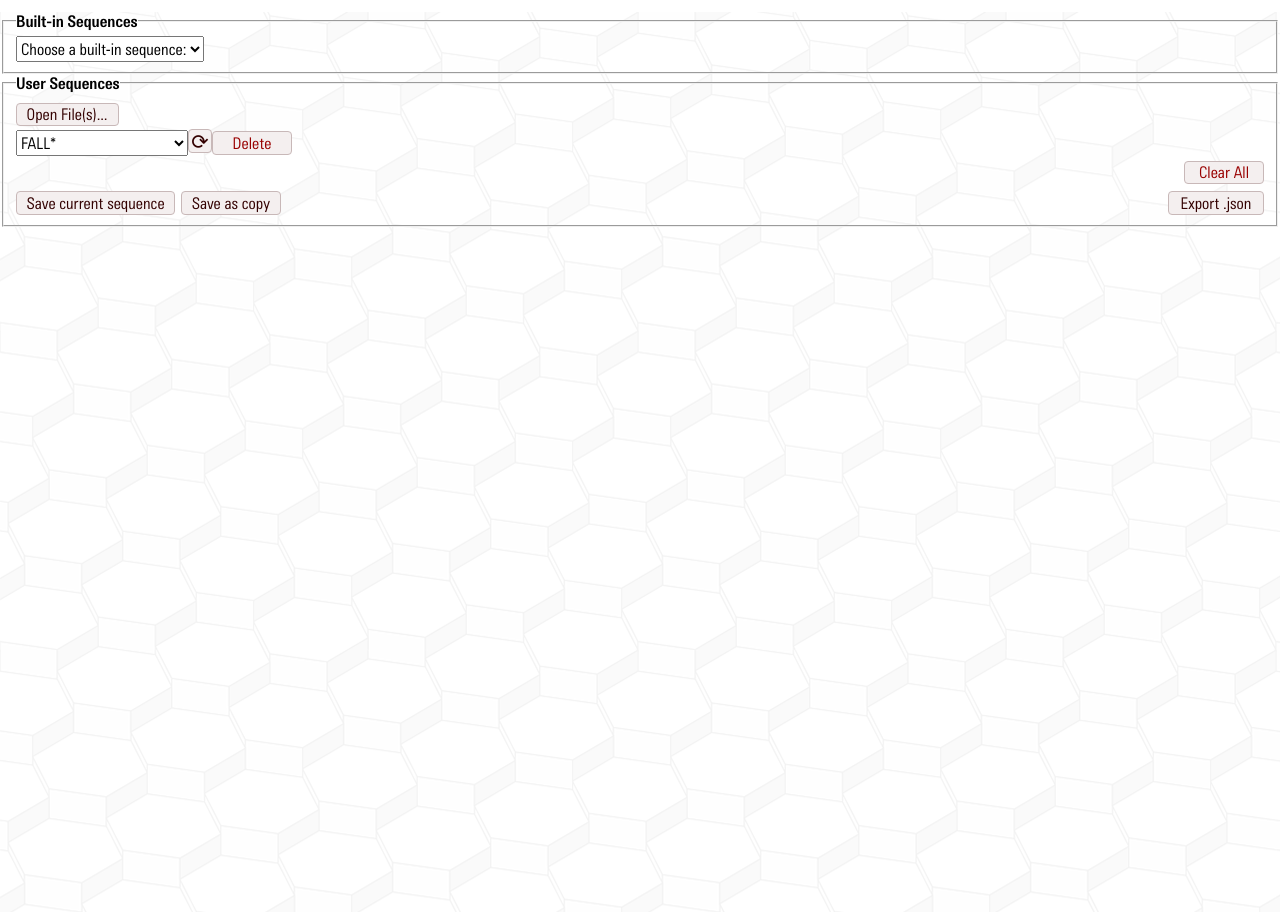
Test: SequenceLibrary › deletes the active saved sequence and clears the workspace
What coordinates should you click on to do the following:
click the button "Delete"
I would click on:
 (252, 143)
Its box is x1=212 y1=131 x2=292 y2=155.
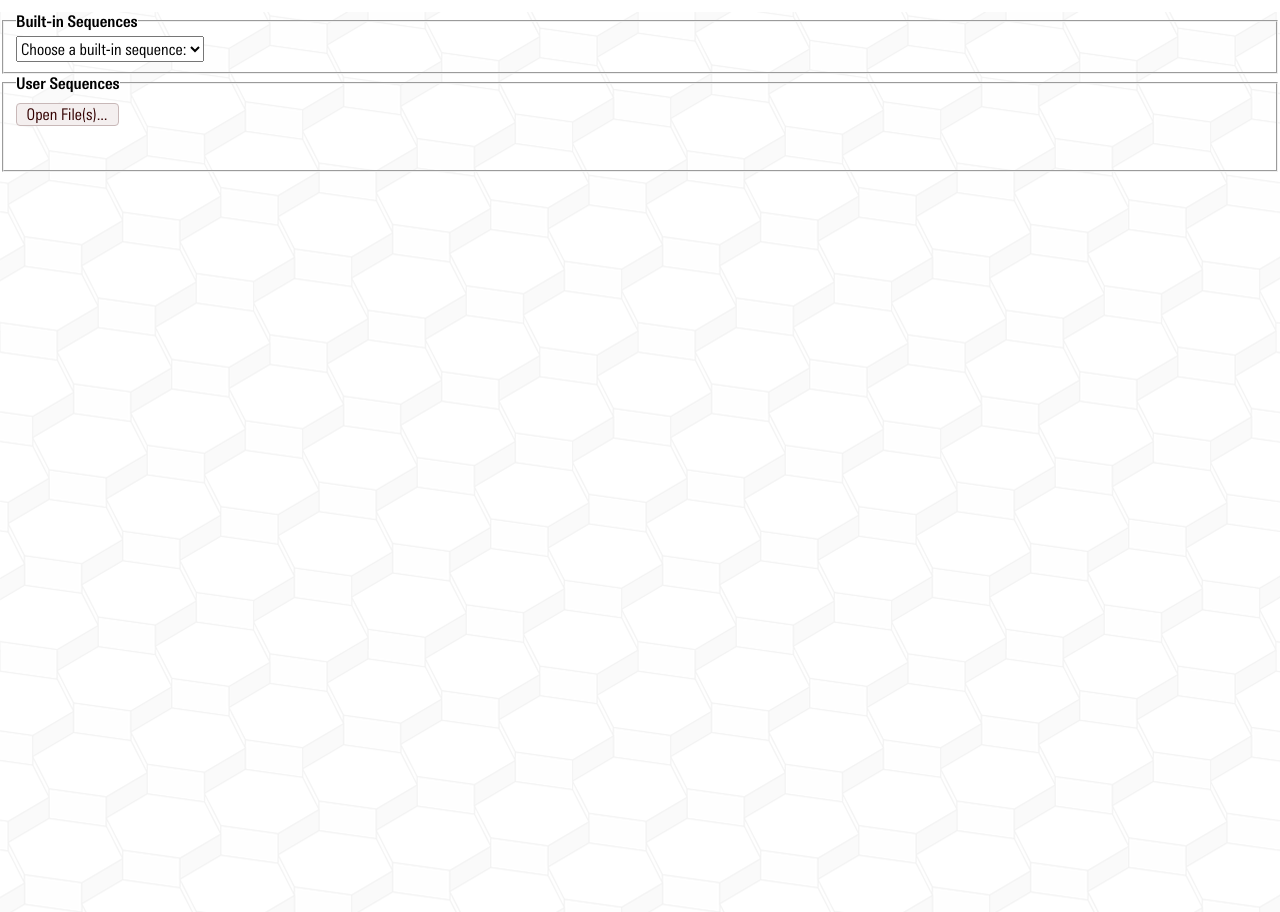
Expected: the dropdown named "Built-in sequences" is shown, x1=16 y1=36 x2=204 y2=62
Result: the button "Save current sequence" is gone
